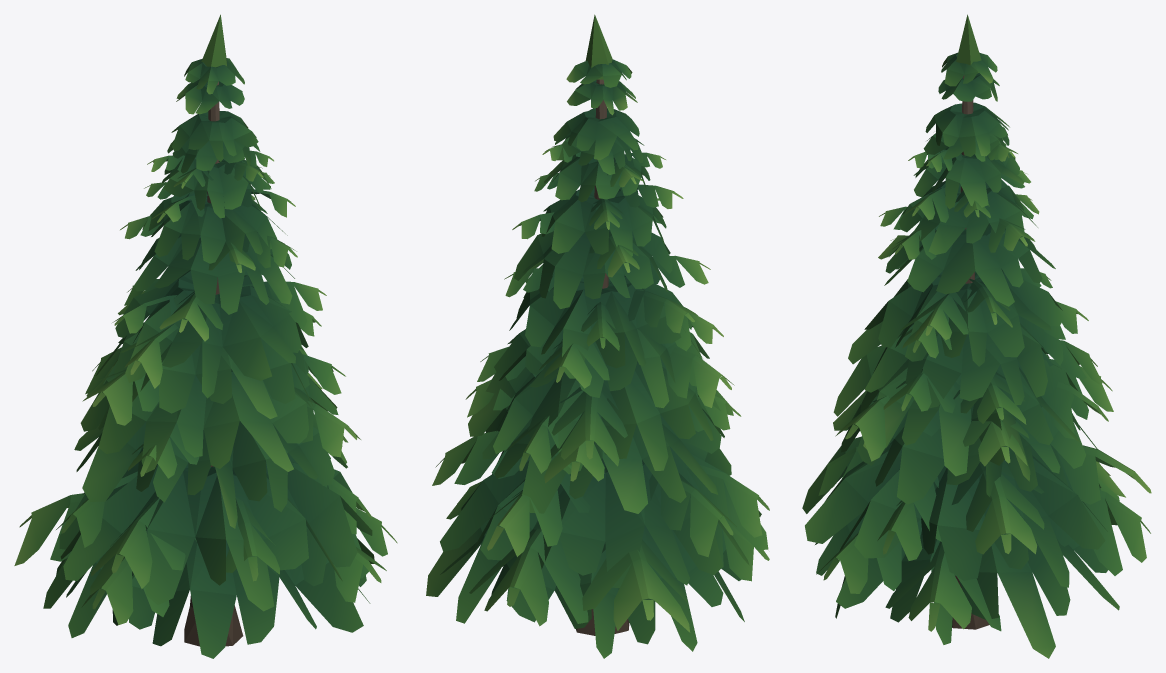
The model's file is spruce_M_normal_std_s41.glb.
The picture shows the model from 3 angles, left to right: view 1: azimuth 30°, elevation 25°; view 2: azimuth 150°, elevation 25°; view 3: azimuth 270°, elevation 25°; orthographic projection. The views are drawn at different scales.
Parts seen in each view (by area): view 1: Tree; view 2: Tree; view 3: Tree.
Boxes of the visible parts, x1,y1,x2,y2 form: Tree: [14, 14, 397, 658]; Tree: [426, 14, 769, 658]; Tree: [802, 14, 1151, 658].
Size of what is drawn, in the model's own units: 3.15 by 5.92 by 3.09.
